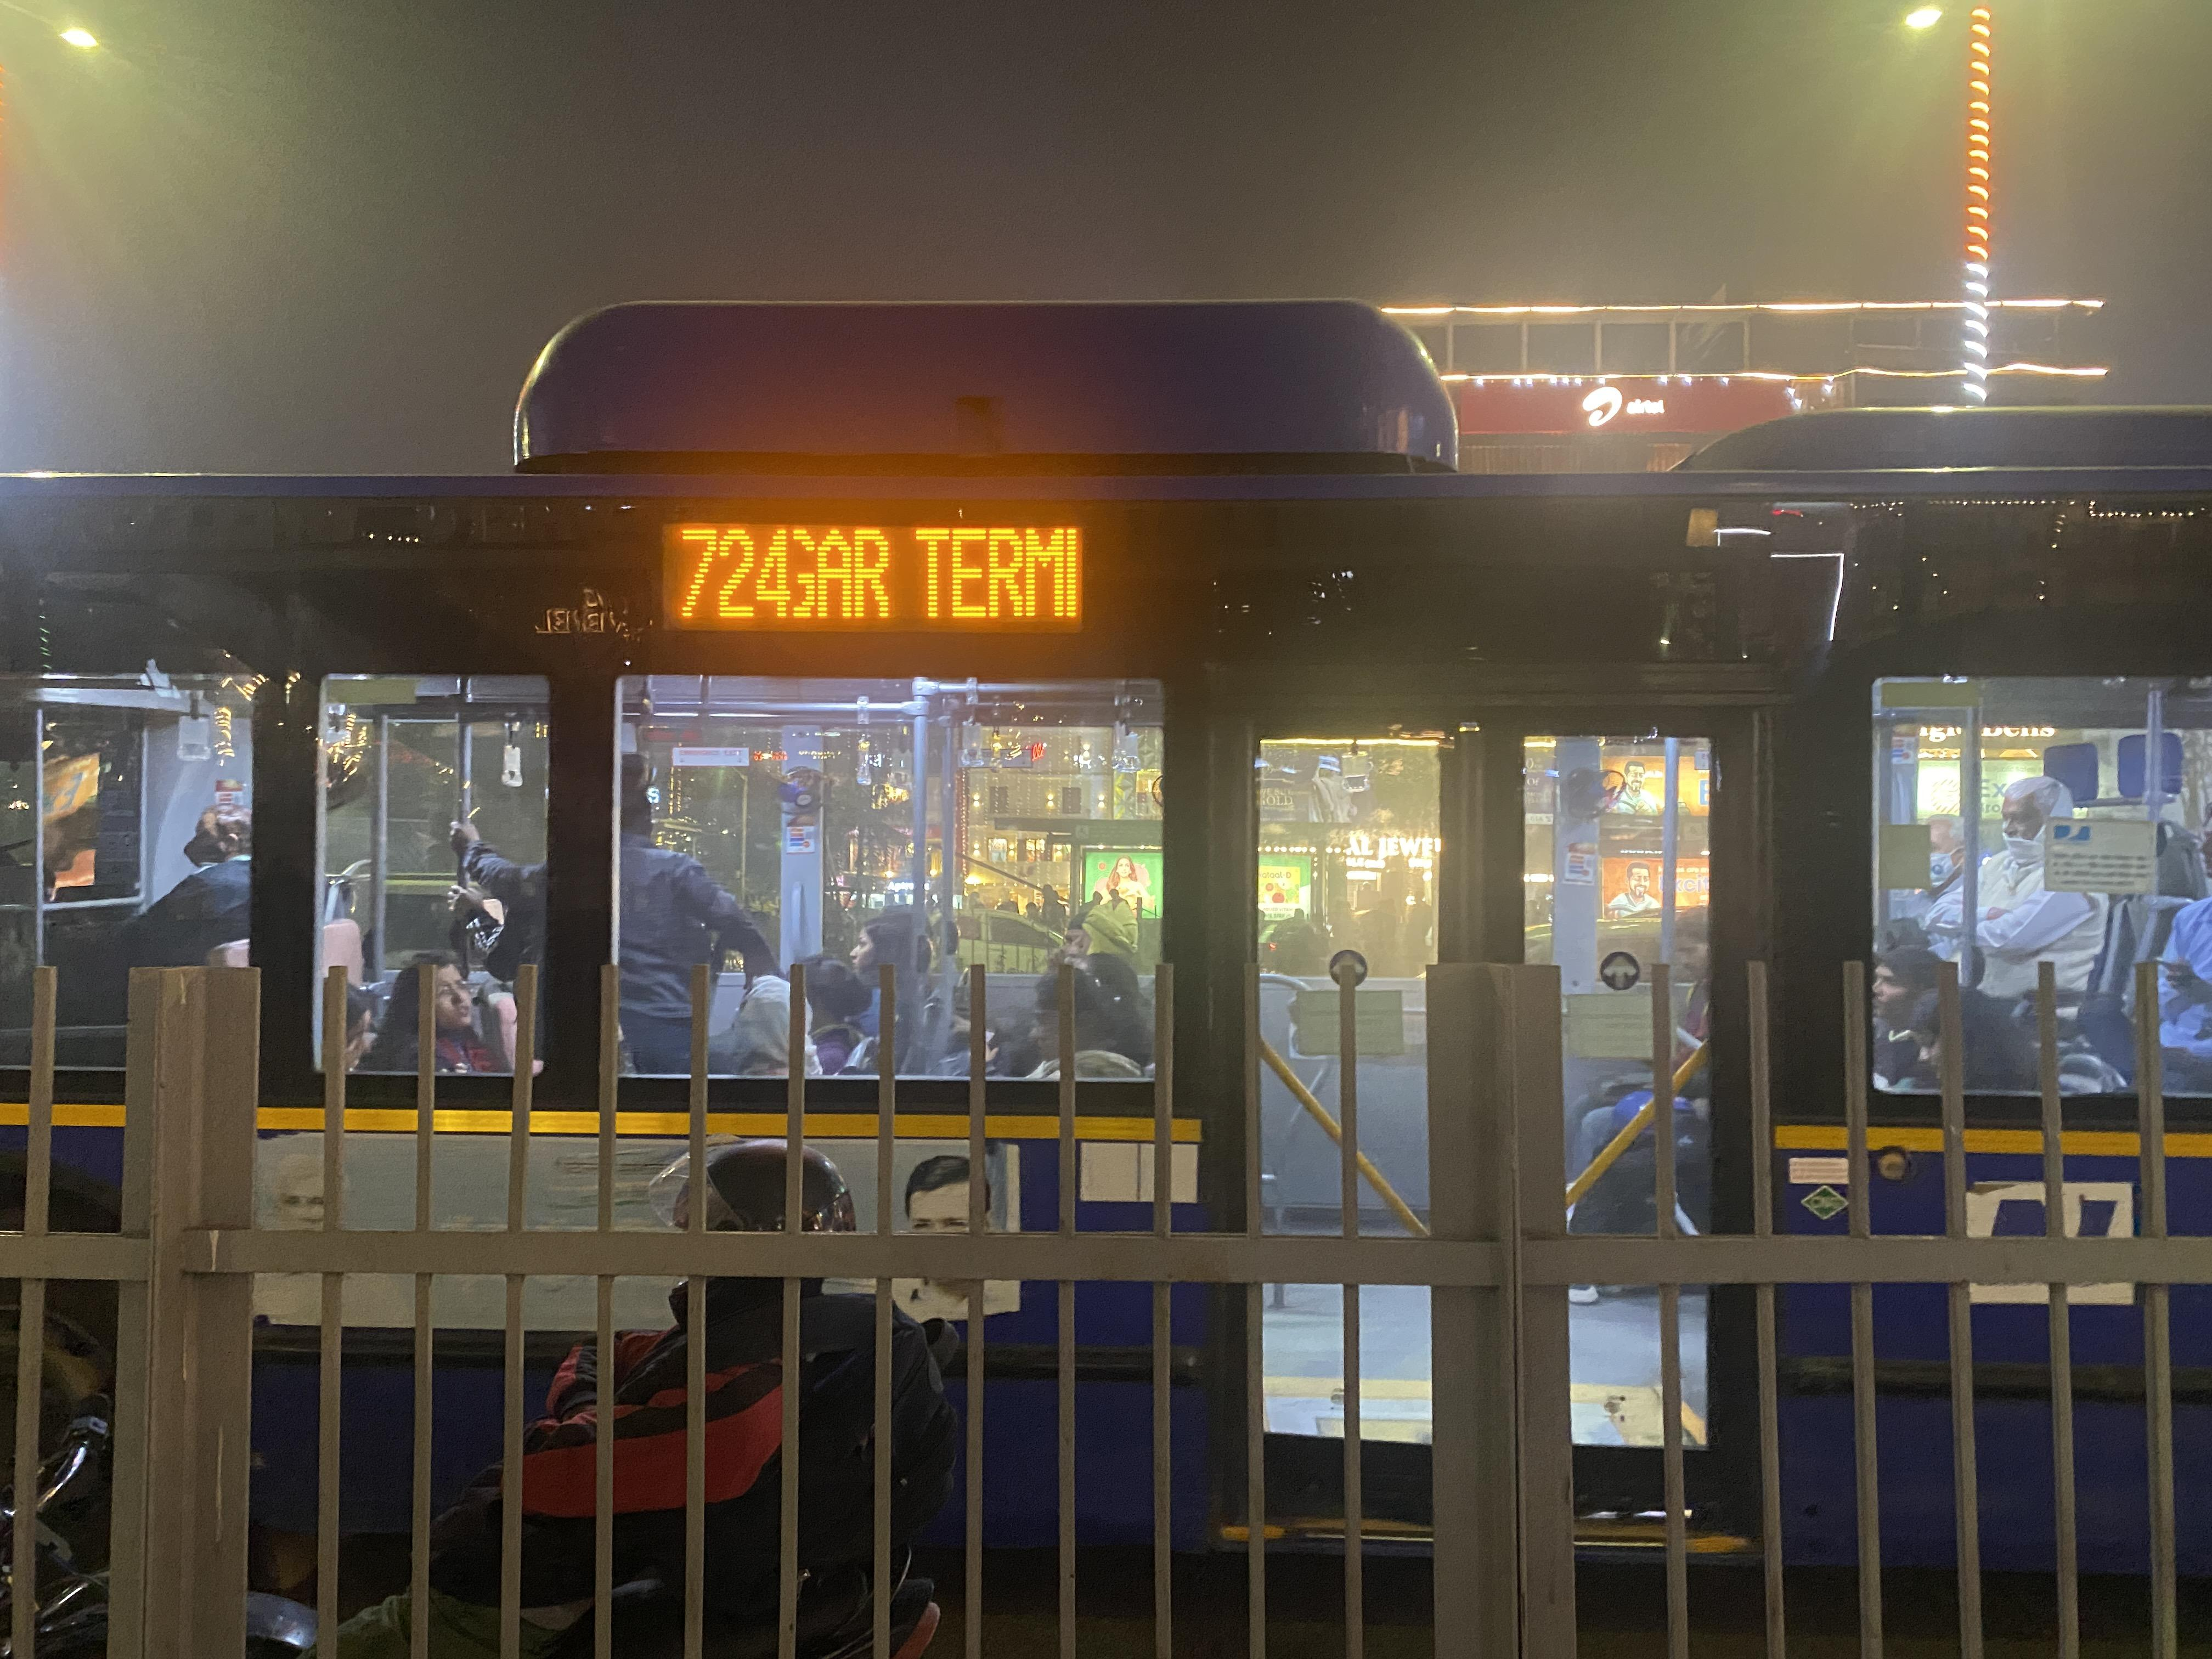Bus: (0, 230, 2212, 1607)
Display Board: (592, 460, 1212, 680)
